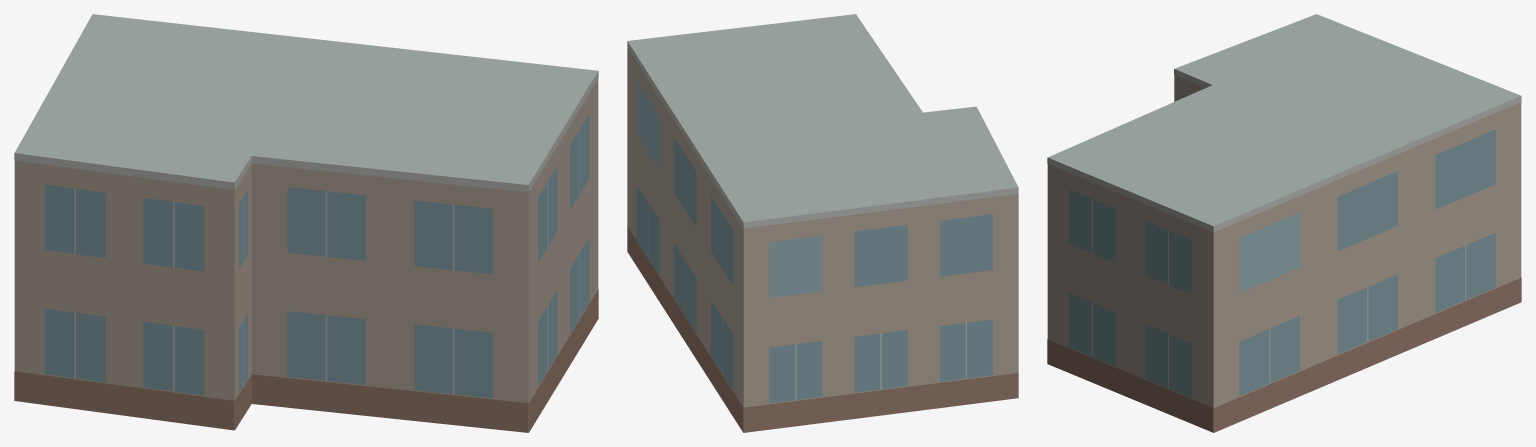
File: survey-upis-32912056.glb
The picture shows the model from 3 angles, left to right: view 1: azimuth 30°, elevation 25°; view 2: azimuth 150°, elevation 25°; view 3: azimuth 270°, elevation 25°; orthographic projection. The views are drawn at different scales.
Parts seen in each view (by area): view 1: survey-upis-32912056.tmp; view 2: survey-upis-32912056.tmp; view 3: survey-upis-32912056.tmp.
Boxes of the visible parts, <box> form: survey-upis-32912056.tmp: <box>14,14,598,432</box>; survey-upis-32912056.tmp: <box>627,14,1018,432</box>; survey-upis-32912056.tmp: <box>1047,14,1521,432</box>.
Size of the model in its own units: 17.87 by 8.1 by 16.85.
